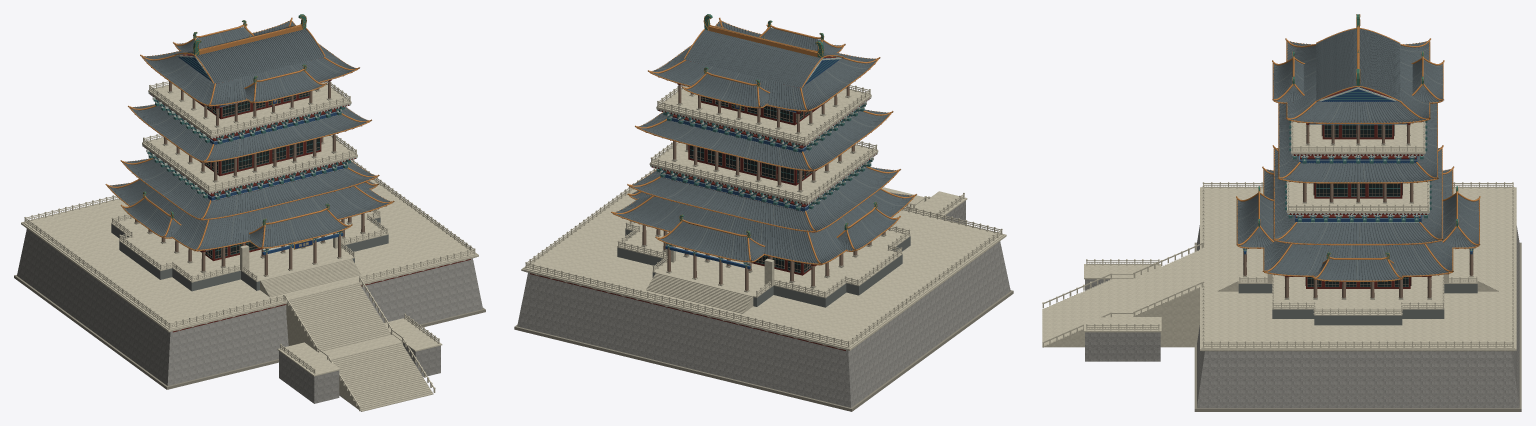
File: guanque-fast.glb
The picture shows the model from 3 angles, left to right: view 1: azimuth 30°, elevation 25°; view 2: azimuth 150°, elevation 25°; view 3: azimuth 270°, elevation 25°; orthographic projection. The views are drawn at different scales.
Visible parts, largest first — view 1: 高台与台阶 · podium · 石材 · 暖白石灰石, 高台与台阶 · podium · 台基 · 灰砖包砌, 首层与重檐 · structure · 筒瓦 · 灰陶细纹, 首层与重檐 · tile · 筒瓦 · 灰陶细纹, 首层与重檐 · structure · 石材 · 暖白石灰石, 第三外观层与屋顶 · tile · 筒瓦 · 灰陶细纹, 第三外观层与屋顶 · structure · 筒瓦 · 灰陶细纹, 第三外观层与屋顶 · structure · 石材 · 暖白石灰石, 第二外观层 · structure · 石材 · 暖白石灰石, 第二外观层 · structure · 筒瓦 · 灰陶细纹, 第二外观层 · tile · 筒瓦 · 灰陶细纹, 首层与重檐 · structure · 首层须弥座 · 灰石 (+21 smaller); view 2: 高台与台阶 · podium · 台基 · 灰砖包砌, 高台与台阶 · podium · 石材 · 暖白石灰石, 首层与重檐 · structure · 筒瓦 · 灰陶细纹, 首层与重檐 · tile · 筒瓦 · 灰陶细纹, 首层与重檐 · structure · 石材 · 暖白石灰石, 第三外观层与屋顶 · structure · 筒瓦 · 灰陶细纹, 第三外观层与屋顶 · tile · 筒瓦 · 灰陶细纹, 第三外观层与屋顶 · structure · 石材 · 暖白石灰石, 第二外观层 · structure · 石材 · 暖白石灰石, 第二外观层 · structure · 筒瓦 · 灰陶细纹, 第二外观层 · tile · 筒瓦 · 灰陶细纹, 高台与台阶 · podium · 石材 · 基脚阴线 (+22 smaller); view 3: 高台与台阶 · podium · 石材 · 暖白石灰石, 高台与台阶 · podium · 台基 · 灰砖包砌, 首层与重檐 · structure · 筒瓦 · 灰陶细纹, 首层与重檐 · tile · 筒瓦 · 灰陶细纹, 第三外观层与屋顶 · tile · 筒瓦 · 灰陶细纹, 首层与重檐 · structure · 石材 · 暖白石灰石, 第三外观层与屋顶 · structure · 筒瓦 · 灰陶细纹, 第二外观层 · structure · 筒瓦 · 灰陶细纹, 第二外观层 · tile · 筒瓦 · 灰陶细纹, 第三外观层与屋顶 · structure · 石材 · 暖白石灰石, 第二外观层 · structure · 石材 · 暖白石灰石, 首层与重檐 · structure · 首层须弥座 · 灰石 (+17 smaller).
Part boxes in pixels (bbox=[...]): 高台与台阶 · podium · 石材 · 暖白石灰石: bbox=[21, 159, 478, 411]; 高台与台阶 · podium · 台基 · 灰砖包砌: bbox=[17, 229, 482, 403]; 首层与重檐 · structure · 筒瓦 · 灰陶细纹: bbox=[109, 159, 387, 249]; 首层与重檐 · tile · 筒瓦 · 灰陶细纹: bbox=[109, 158, 390, 249]; 首层与重檐 · structure · 石材 · 暖白石灰石: bbox=[111, 209, 388, 297]; 第三外观层与屋顶 · tile · 筒瓦 · 灰陶细纹: bbox=[144, 21, 355, 104]; 第三外观层与屋顶 · structure · 筒瓦 · 灰陶细纹: bbox=[145, 21, 353, 104]; 第三外观层与屋顶 · structure · 石材 · 暖白石灰石: bbox=[148, 81, 351, 137]; 第二外观层 · structure · 石材 · 暖白石灰石: bbox=[142, 134, 357, 192]; 第二外观层 · structure · 筒瓦 · 灰陶细纹: bbox=[131, 105, 366, 161]; 第二外观层 · tile · 筒瓦 · 灰陶细纹: bbox=[131, 104, 367, 160]; 首层与重檐 · structure · 首层须弥座 · 灰石: bbox=[111, 217, 388, 291]; 高台与台阶 · podium · 台基 · 灰砖包砌: bbox=[517, 200, 1010, 407]; 高台与台阶 · podium · 石材 · 暖白石灰石: bbox=[521, 168, 1006, 350]; 首层与重檐 · structure · 筒瓦 · 灰陶细纹: bbox=[617, 167, 912, 263]; 首层与重檐 · tile · 筒瓦 · 灰陶细纹: bbox=[615, 167, 912, 263]; 首层与重檐 · structure · 石材 · 暖白石灰石: bbox=[617, 221, 910, 313]; 第三外观层与屋顶 · structure · 筒瓦 · 灰陶细纹: bbox=[654, 22, 874, 110]; 第三外观层与屋顶 · tile · 筒瓦 · 灰陶细纹: bbox=[652, 21, 875, 109]; 第三外观层与屋顶 · structure · 石材 · 暖白石灰石: bbox=[656, 85, 871, 144]; 第二外观层 · structure · 石材 · 暖白石灰石: bbox=[649, 141, 878, 203]; 第二外观层 · structure · 筒瓦 · 灰陶细纹: bbox=[641, 111, 889, 169]; 第二外观层 · tile · 筒瓦 · 灰陶细纹: bbox=[639, 109, 889, 169]; 高台与台阶 · podium · 石材 · 基脚阴线: bbox=[514, 272, 1013, 411]; 高台与台阶 · podium · 石材 · 暖白石灰石: bbox=[1042, 182, 1516, 350]; 高台与台阶 · podium · 台基 · 灰砖包砌: bbox=[1085, 225, 1519, 408]; 首层与重檐 · structure · 筒瓦 · 灰陶细纹: bbox=[1237, 148, 1478, 280]; 首层与重檐 · tile · 筒瓦 · 灰陶细纹: bbox=[1237, 148, 1479, 280]; 第三外观层与屋顶 · tile · 筒瓦 · 灰陶细纹: bbox=[1273, 29, 1443, 122]; 首层与重檐 · structure · 石材 · 暖白石灰石: bbox=[1217, 234, 1498, 315]; 第三外观层与屋顶 · structure · 筒瓦 · 灰陶细纹: bbox=[1273, 29, 1442, 122]; 第二外观层 · structure · 筒瓦 · 灰陶细纹: bbox=[1279, 103, 1436, 182]; 第二外观层 · tile · 筒瓦 · 灰陶细纹: bbox=[1279, 103, 1437, 182]; 第三外观层与屋顶 · structure · 石材 · 暖白石灰石: bbox=[1291, 121, 1425, 153]; 第二外观层 · structure · 石材 · 暖白石灰石: bbox=[1287, 181, 1429, 212]; 首层与重檐 · structure · 首层须弥座 · 灰石: bbox=[1238, 284, 1477, 325].
Bounding box in the file's own units: 94 × 75.48 × 114.
Materials: 20 (5 with a texture image).
